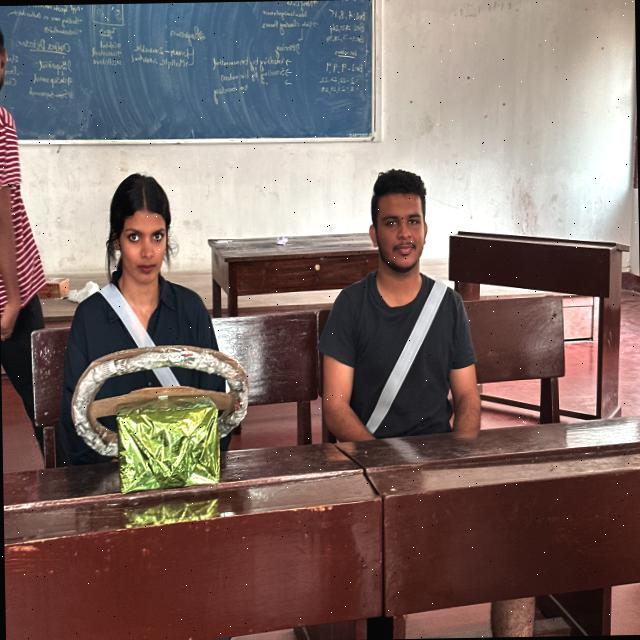seatbelt: (76, 280, 211, 458), (320, 276, 454, 447)
